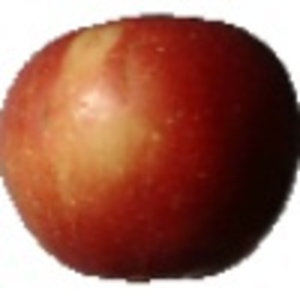maçã braeburn: (1, 12, 300, 285)
